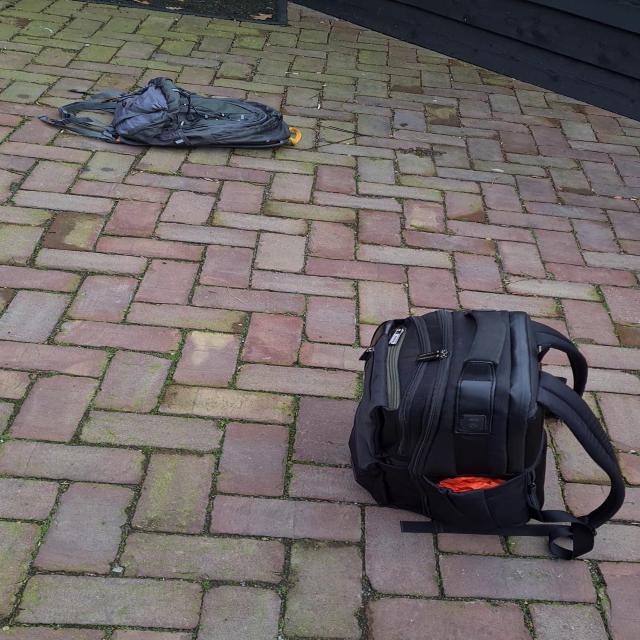backpack: (346, 309, 619, 559)
